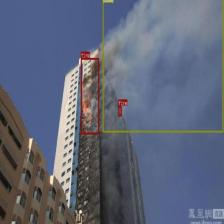fire: (80, 57, 99, 134), (118, 106, 121, 116)
smoke: (102, 0, 223, 132)
